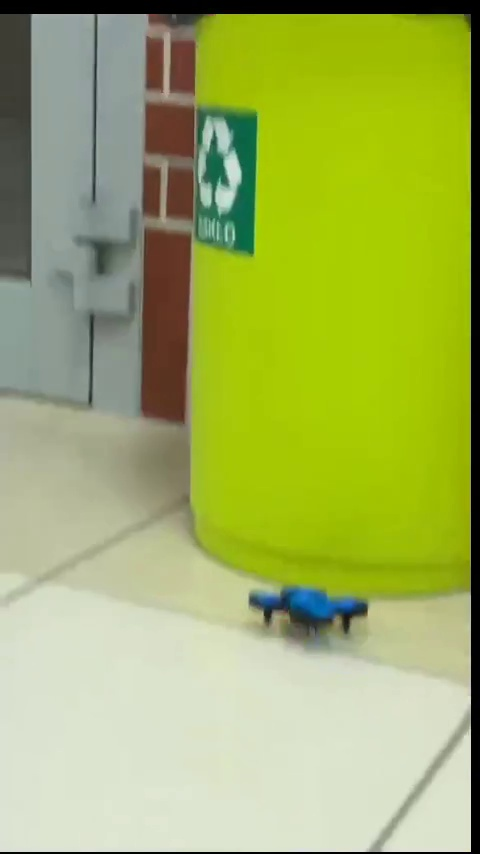drone: (251, 580, 365, 639)
